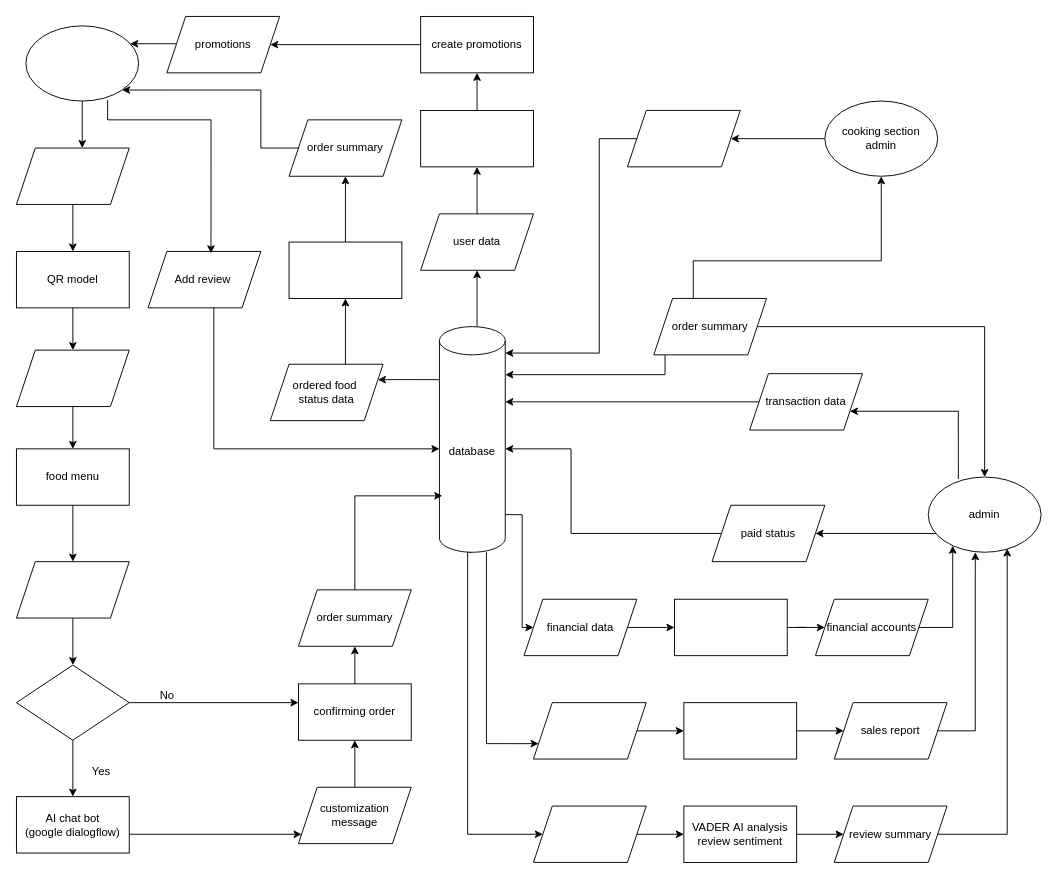
This 1058x879 diagram has some shape labels left out. Each missing label, with the box of its shape:
AI: (420, 110, 533, 167)
create sales report: (683, 702, 797, 759)
customaization: (16, 664, 129, 740)
customer: (25, 25, 139, 101)
generate financial accounts: (674, 598, 787, 656)
Login data: (16, 349, 129, 407)
ordered food order status: (627, 110, 740, 167)
QR scane: (16, 147, 129, 204)
reviews: (533, 805, 646, 862)
sales data: (533, 702, 646, 759)
select food: (16, 561, 129, 618)
update status: (288, 241, 402, 298)
